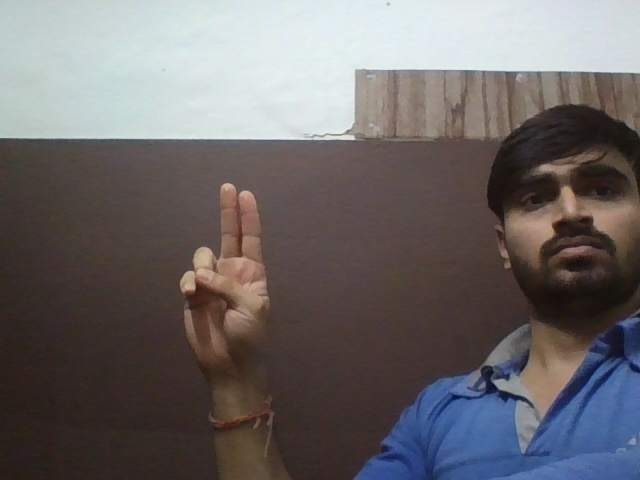U: (169, 179, 282, 376)
